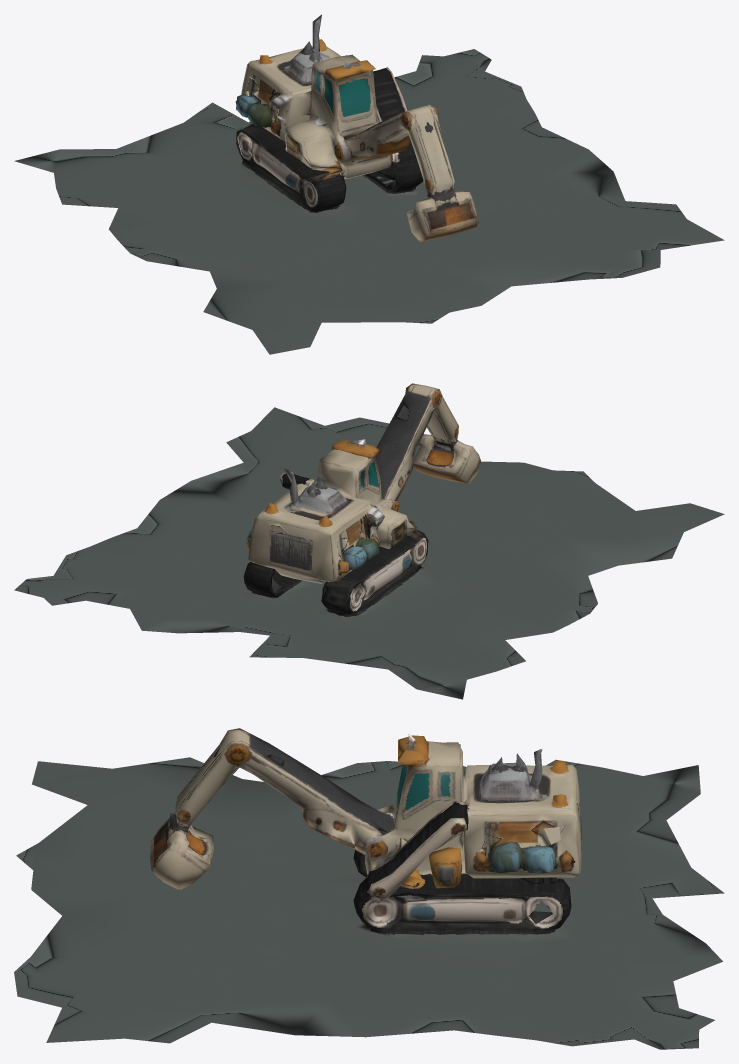
Rendered from burovaya-02.glb.
3 views of the same model, one above another, from view 1: azimuth 30°, elevation 25°; view 2: azimuth 150°, elevation 25°; view 3: azimuth 270°, elevation 25° (orthographic). The views are drawn at different scales.
Parts seen in each view (by area): view 1: geometry_0; view 2: geometry_0; view 3: geometry_0.
Boxes of the visible parts, x1,y1,x2,y2 form: geometry_0: (14,14,724,354); geometry_0: (14,383,724,699); geometry_0: (14,728,724,1049).
Bounding box in the file's own units: 0.9589 × 0.2564 × 0.986.
Materials: 1 (1 with a texture image).
